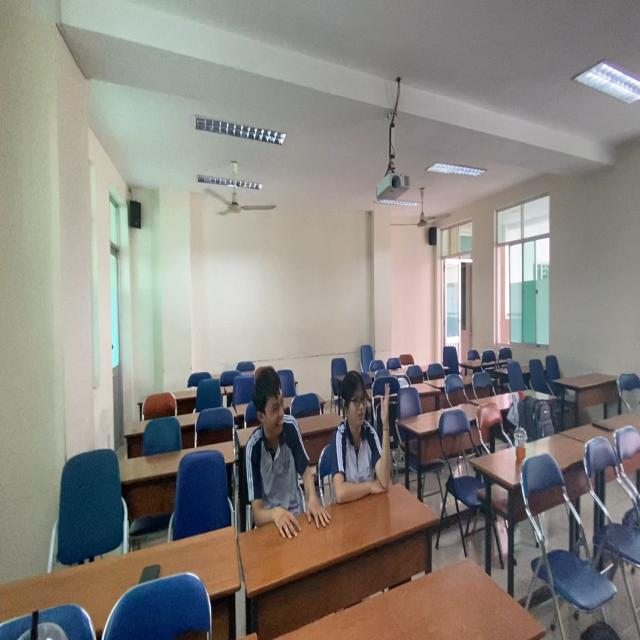raise_hand: (334, 369, 399, 512)
